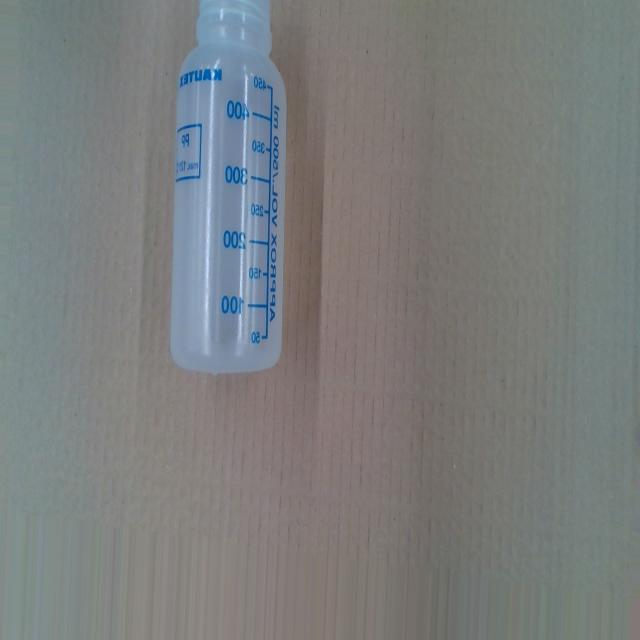bottle: (169, 0, 290, 370)
